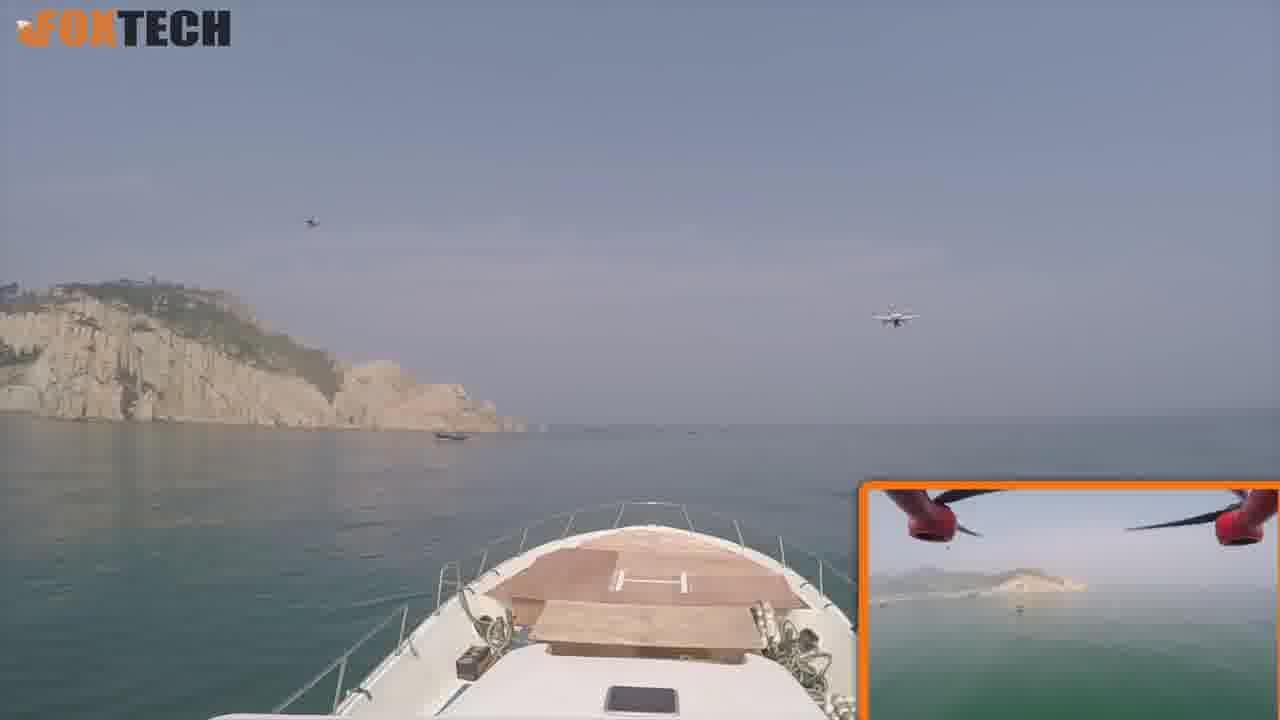drone: (866, 298, 924, 336)
